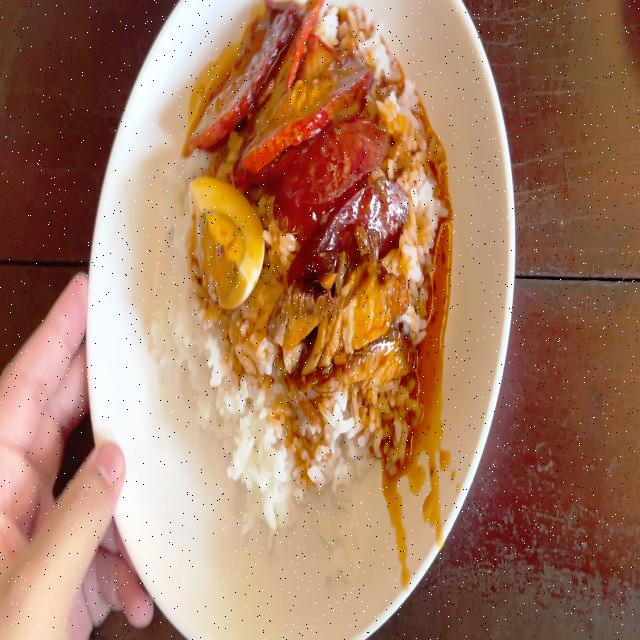boiled_egg: (190, 186, 258, 295)
chainese_sausage: (289, 134, 407, 268)
crispy_pork: (274, 280, 408, 389)
red_pork: (195, 7, 371, 164)
red_pork_and_crispy_pork: (164, 10, 437, 494)
rice: (246, 384, 404, 494), (173, 320, 270, 487)
